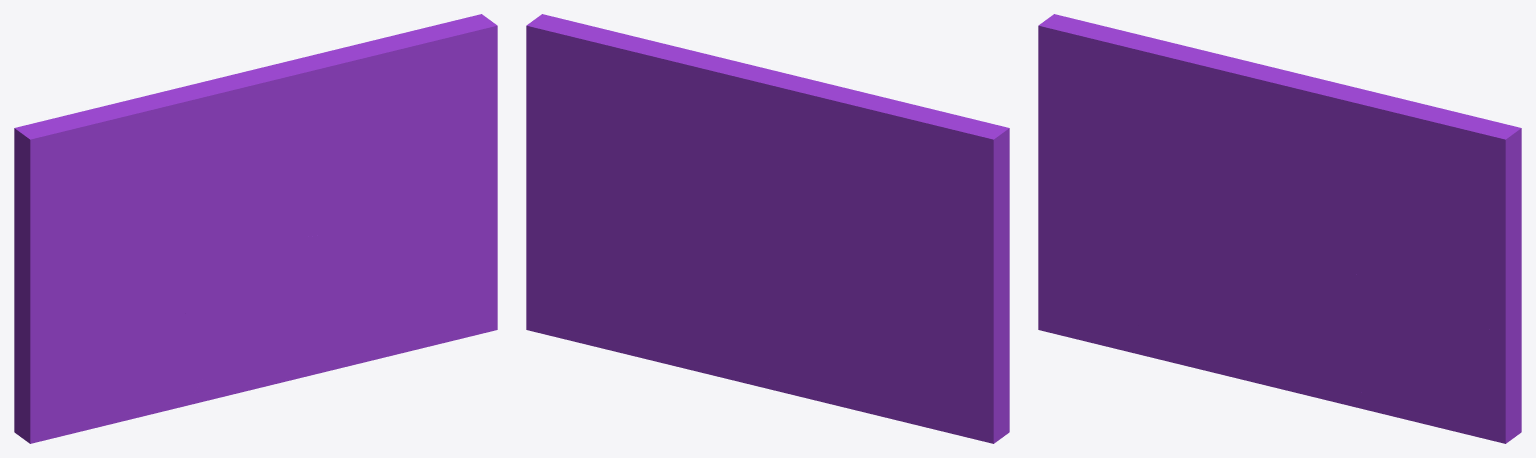
File: Barrier_35_chunks.fbx
3 views of the same model, side by side, from view 1: azimuth 30°, elevation 25°; view 2: azimuth 150°, elevation 25°; view 3: azimuth 330°, elevation 25° (orthographic).
Visible parts, largest first — view 1: Barrier_35_0, Barrier_35_2, Barrier_35_5, Barrier_35_1, Barrier_35_3, Barrier_35_6, Barrier_35_4; view 2: Barrier_35_0, Barrier_35_2, Barrier_35_5, Barrier_35_3, Barrier_35_6, Barrier_35_4; view 3: Barrier_35_0, Barrier_35_2, Barrier_35_5, Barrier_35_1, Barrier_35_3, Barrier_35_6, Barrier_35_4.
Boxes of the visible parts, x1,y1,x2,y2 form: Barrier_35_0: (14,81,253,443); Barrier_35_2: (206,14,497,237); Barrier_35_5: (327,222,497,361); Barrier_35_1: (107,216,290,424); Barrier_35_3: (186,248,328,405); Barrier_35_6: (284,231,371,283); Barrier_35_4: (285,326,366,381); Barrier_35_0: (757,83,1009,443); Barrier_35_2: (526,14,825,229); Barrier_35_5: (526,211,676,351); Barrier_35_3: (714,257,881,416); Barrier_35_6: (609,218,775,306); Barrier_35_4: (617,299,778,391); Barrier_35_0: (1038,14,1261,348); Barrier_35_2: (1221,60,1521,335); Barrier_35_5: (1335,284,1521,443); Barrier_35_1: (1115,211,1298,367); Barrier_35_3: (1194,258,1336,391); Barrier_35_6: (1292,251,1380,315); Barrier_35_4: (1293,357,1374,411).
Bounding box in the file's own units: 462 × 288 × 27.2.
